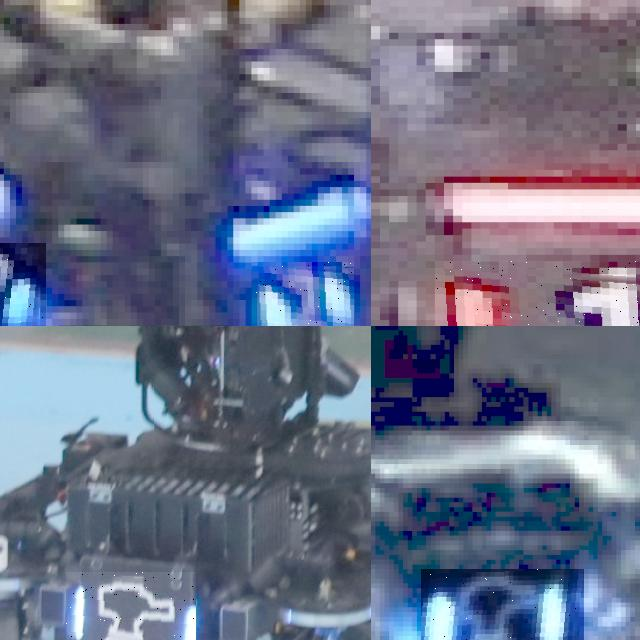B2: (251, 262, 354, 326), (0, 243, 46, 326)
Bs: (421, 569, 583, 640), (66, 571, 196, 640)
R1: (434, 261, 640, 326)
